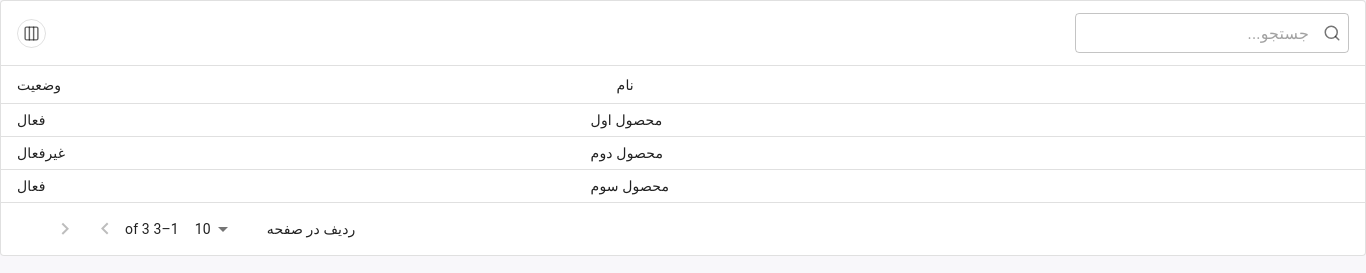
Test case: DataTable › clears search when clear button is clicked
Type "دوم" into the field labelled "جستجو" at (1206, 33), box x1=1089 y1=13 x2=1323 y2=53
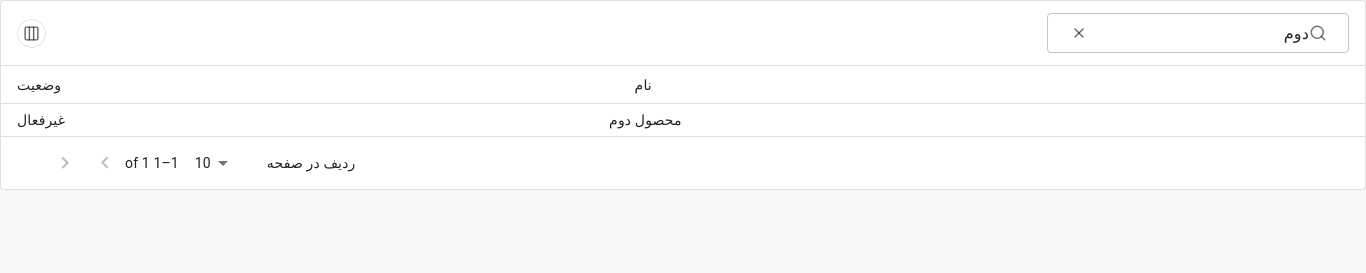
Expected: the text "محصول اول" is gone
Click the button named "پاک کردن جستجو" at (1079, 33), box x1=1069 y1=23 x2=1089 y2=43
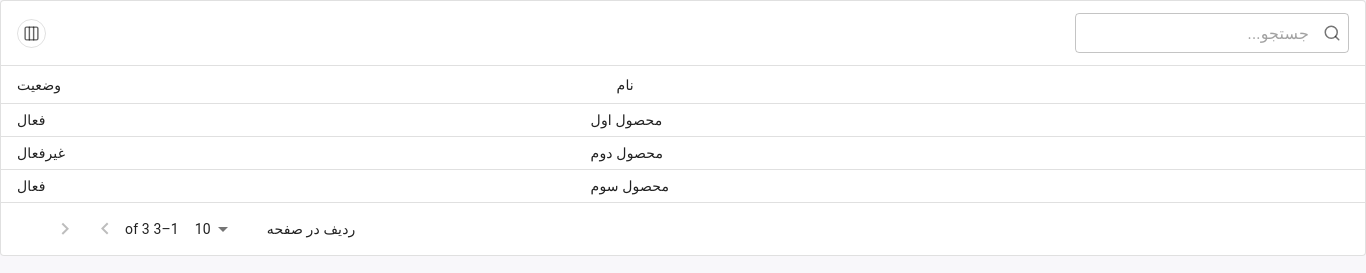
Expected: the field labelled "جستجو" is empty, x1=1089 y1=13 x2=1323 y2=53
Expected: the text "محصول اول" is shown, x1=575 y1=104 x2=1365 y2=137
